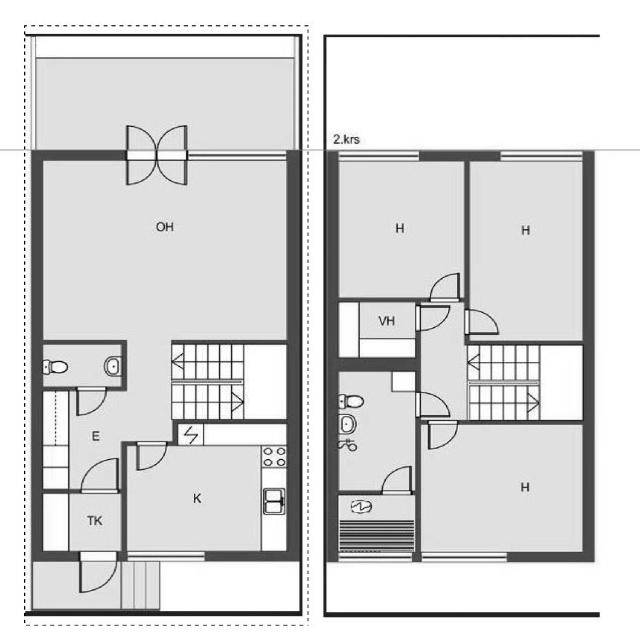door: (38, 480, 123, 558), (118, 122, 188, 190), (419, 392, 458, 446), (76, 553, 118, 595), (79, 456, 120, 494), (462, 307, 503, 337), (376, 464, 415, 495), (412, 304, 452, 332), (424, 419, 460, 450), (413, 390, 451, 419), (134, 440, 168, 472), (74, 386, 108, 418), (428, 272, 463, 302)
window: (487, 144, 590, 166), (331, 144, 428, 167), (185, 145, 290, 165), (417, 546, 516, 565), (127, 547, 213, 564), (351, 552, 414, 566)
zone: (33, 157, 298, 341), (464, 156, 587, 344), (418, 422, 589, 555), (127, 425, 292, 558), (333, 156, 469, 300), (332, 368, 417, 492), (165, 343, 290, 421), (36, 392, 121, 490), (331, 490, 418, 559), (36, 490, 124, 558), (330, 300, 420, 363), (37, 342, 124, 388)
